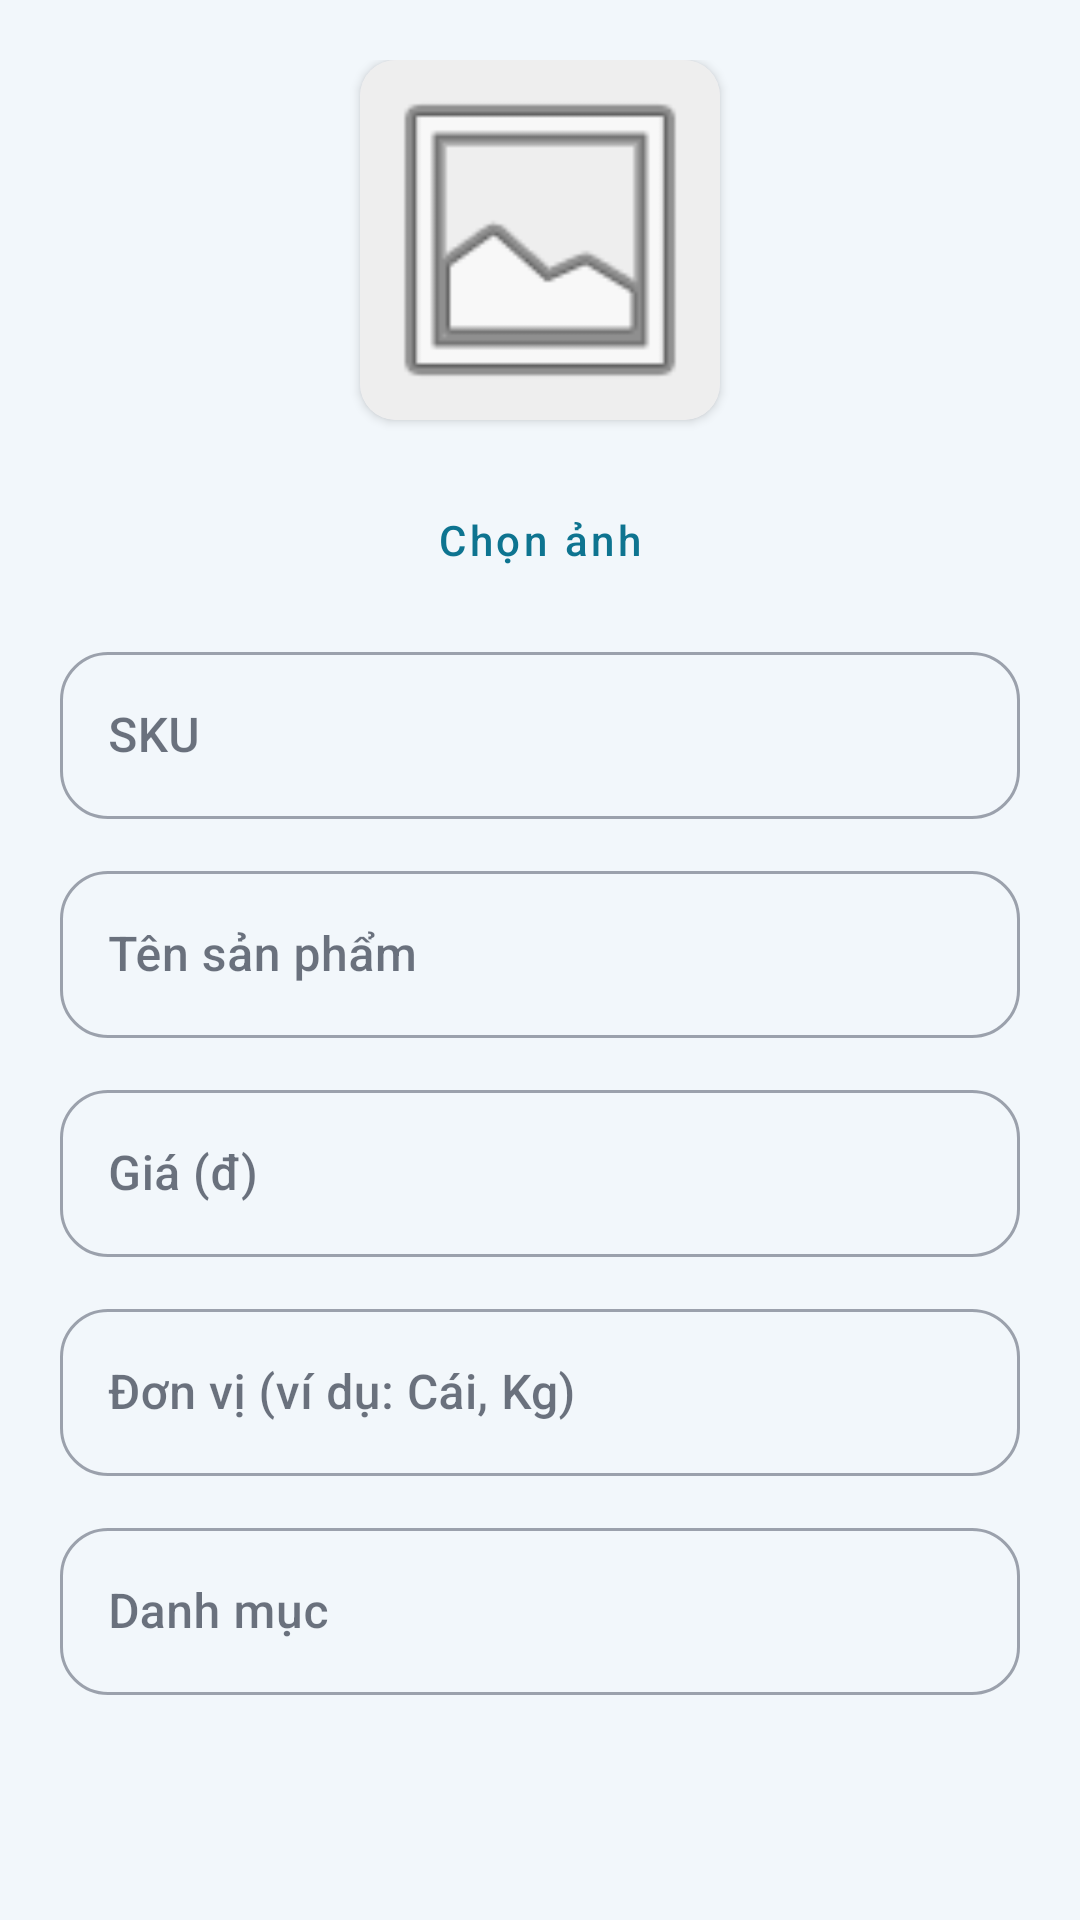

Where to tap for icons on this 1080*1920 app screen, as [x,y]:
gallery: [540,240]
